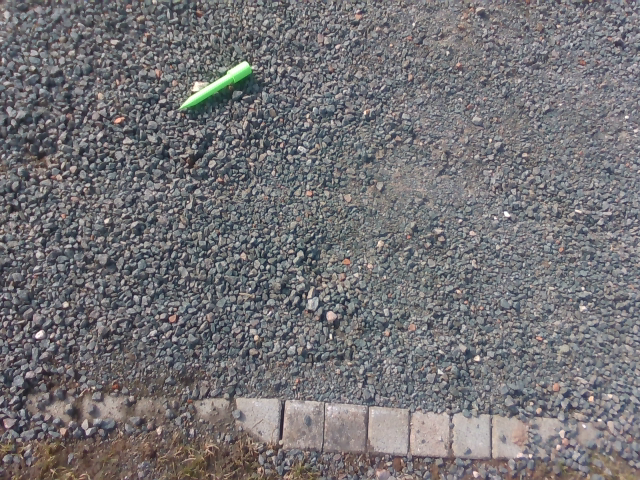Probe: (174, 56, 256, 115)
